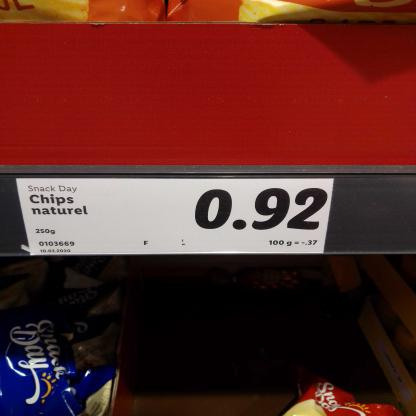prtg: (17, 179, 335, 256)
